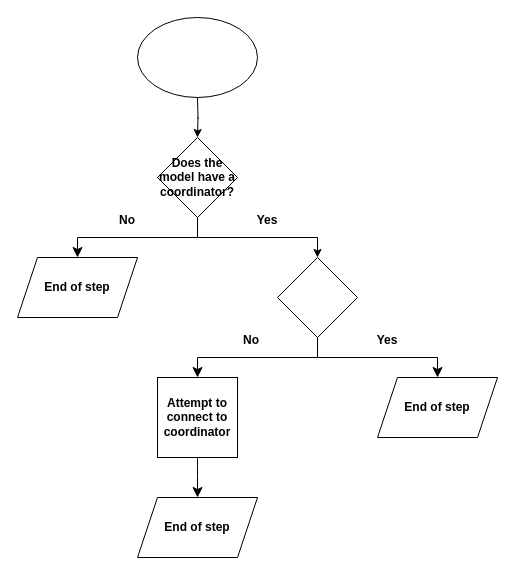
Some shapes in this 515 by 575 pixel diagram are drawn without their labels. The centre of each missing label's shape, as x and y in pixels:
Am I connected to the coordinator?: (x=317, y=297)
Micro-provider in the model to step:: (x=197, y=57)
